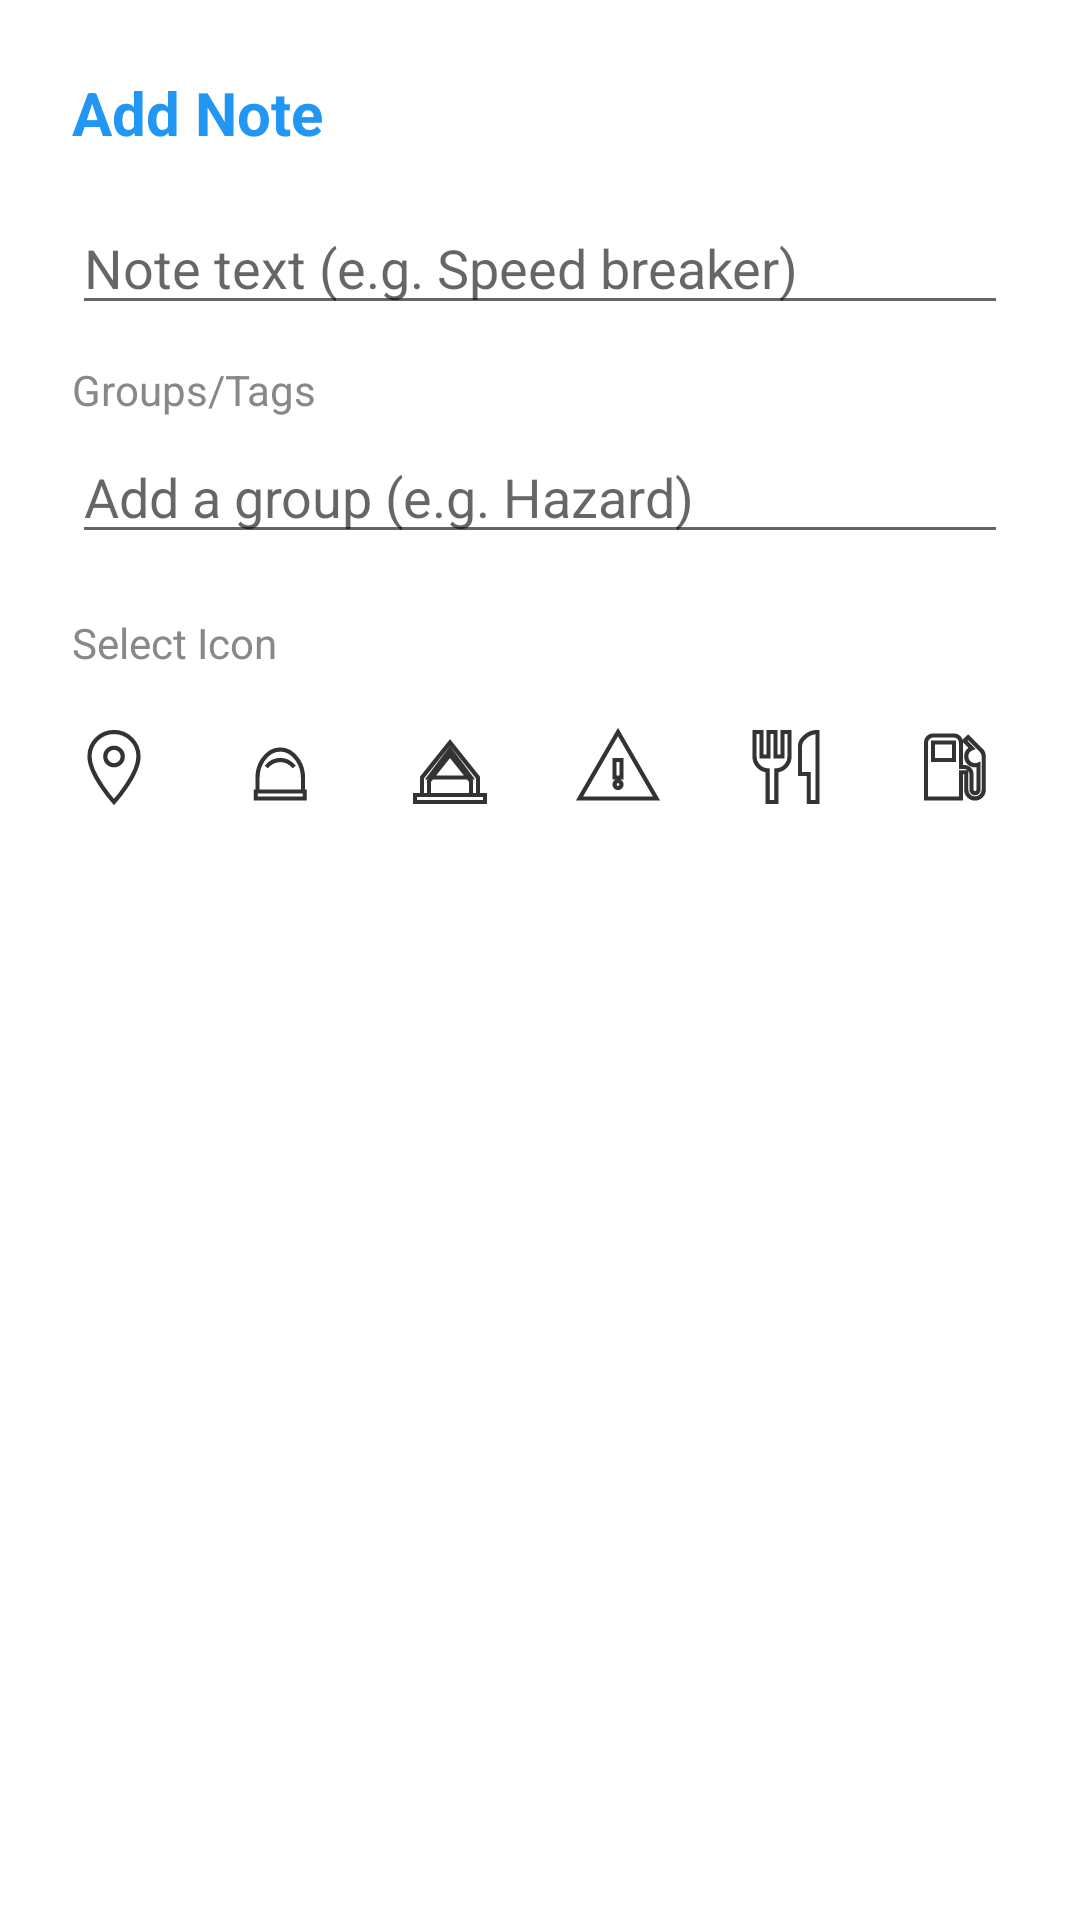

Locate icon controls on the screen. Image size 1080 × 1920, boxes as (x1, y1, x2, y2).
danger: (576, 728, 660, 801)
food: (752, 730, 820, 804)
note marker: (87, 730, 141, 805)
speedbreaker: (253, 747, 307, 801)
tent: (413, 739, 487, 804)
